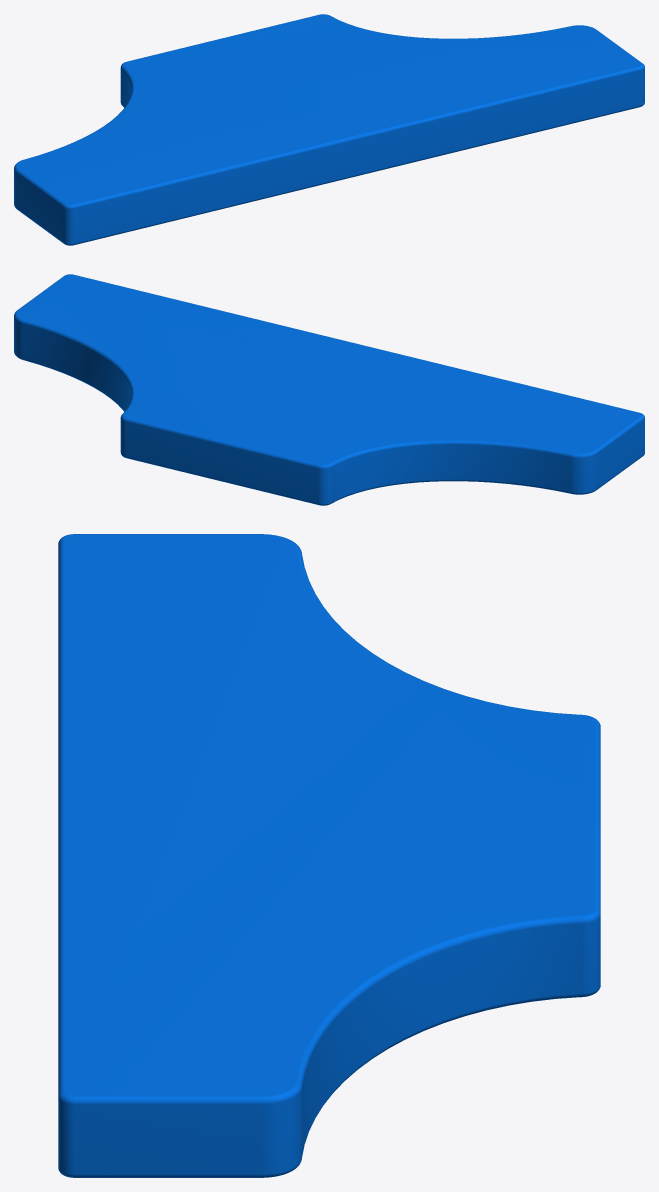
The model's file is 6th_ending_plat.glb.
3 renders of one model, top to bottom at view 1: azimuth 30°, elevation 25°; view 2: azimuth 150°, elevation 25°; view 3: azimuth 270°, elevation 25°, orthographic. The views are drawn at different scales.
Parts seen in each view (by area): view 1: Cube.001; view 2: Cube.001; view 3: Cube.001.
Boxes of the visible parts, <box> form: Cube.001: <box>14,14,644,245</box>; Cube.001: <box>14,274,644,505</box>; Cube.001: <box>58,534,600,1177</box>.
Bounding box in the file's own units: 29.89 × 2 × 12.1.
